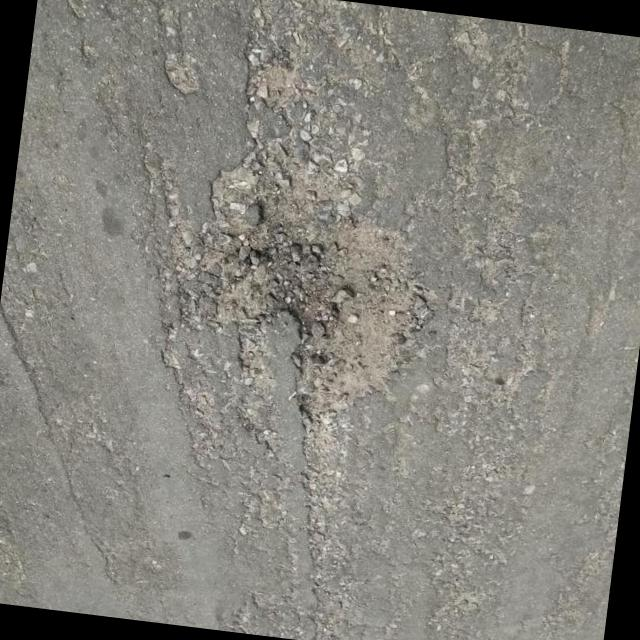pothole: (192, 139, 456, 435)
